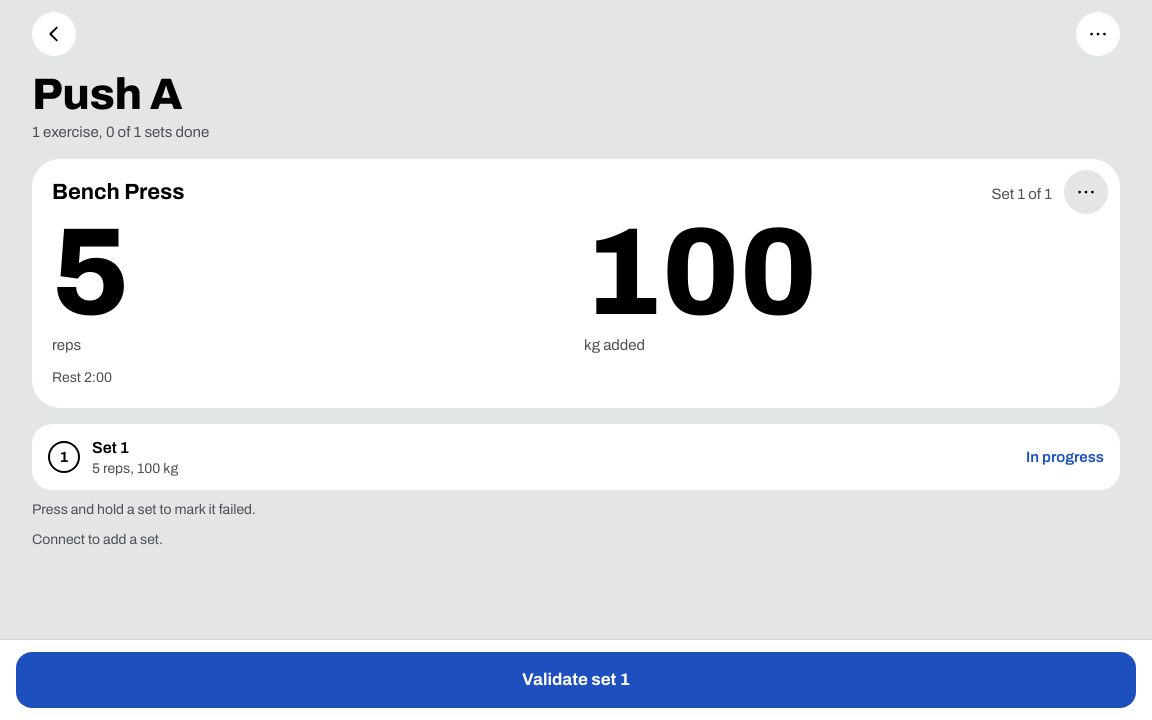
Test: a workout logged offline and replayed › a set rated in its sheet without being validated is one queued write, which lands done, rated and dated
expect the heading "Push A" is shown: met, box x1=32 y1=72 x2=182 y2=116
Click the button "1 Set 1 5 reps, 100 kg In progress" at (64, 457), box x1=48 y1=424 x2=1104 y2=490
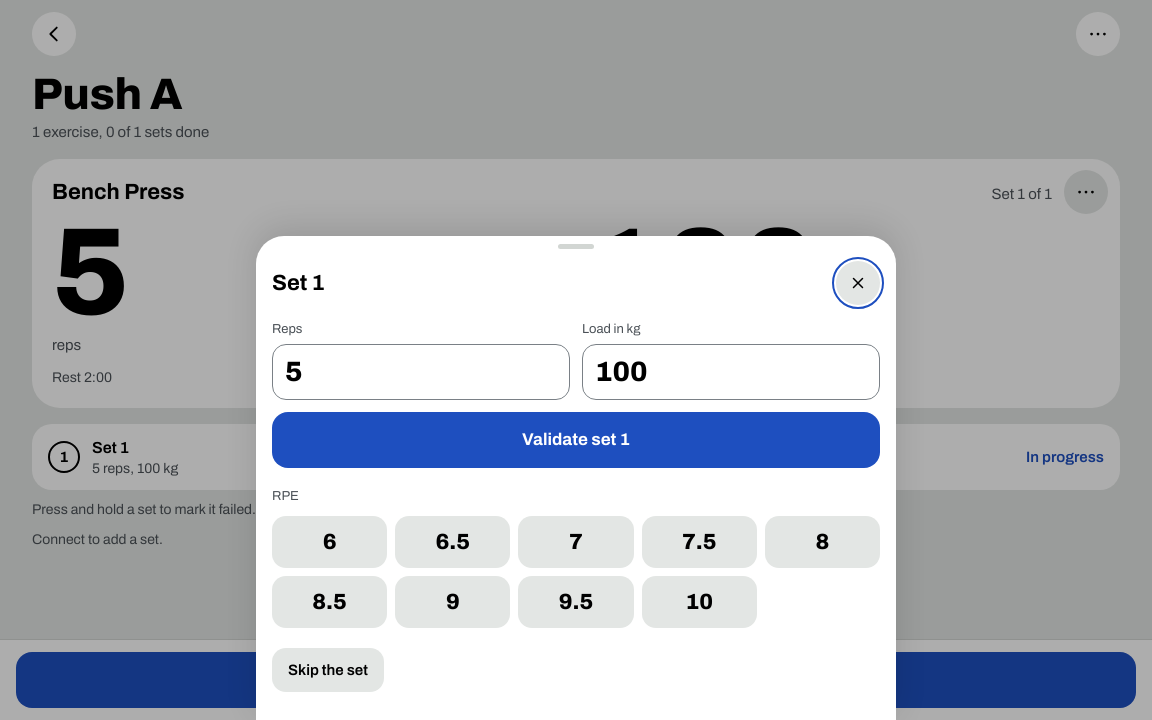
expect the heading "Set 1" is shown: met, box x1=272 y1=270 x2=325 y2=296
Click the button named "RPE 8" at (822, 542), box x1=765 y1=516 x2=880 y2=568
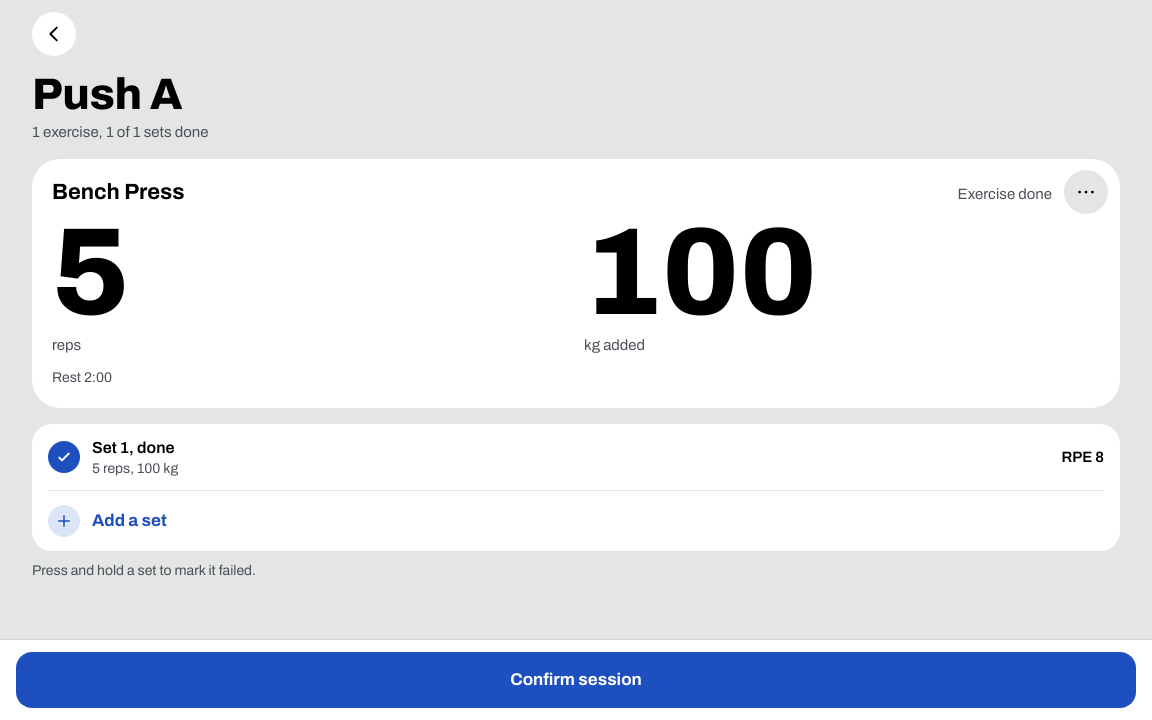
expect the button "Set 1, done 5 reps, 100 kg RPE 8" is shown: met, box x1=48 y1=424 x2=1104 y2=491
